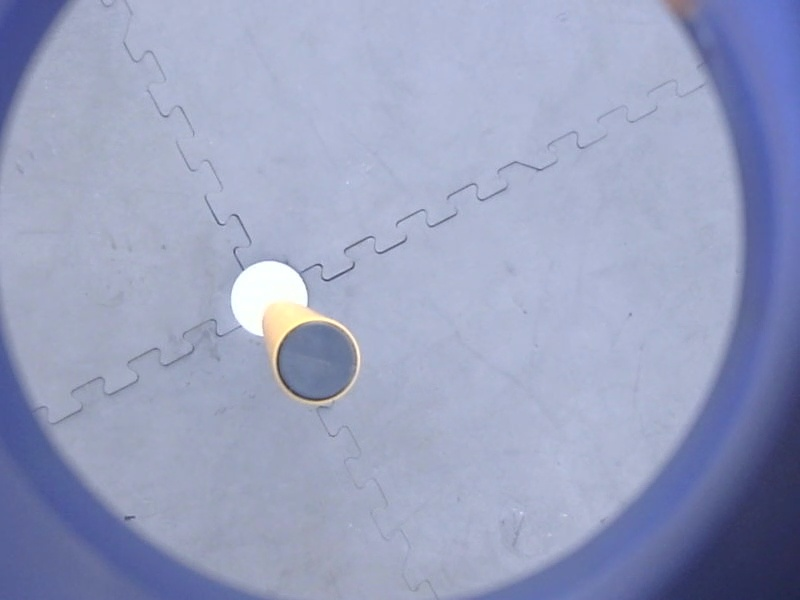tip: (268, 314, 367, 411)
